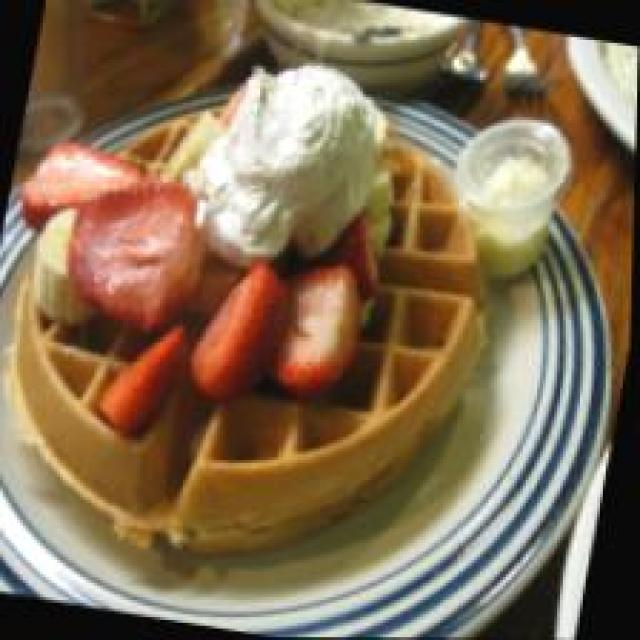Waffles: (0, 33, 535, 610)
